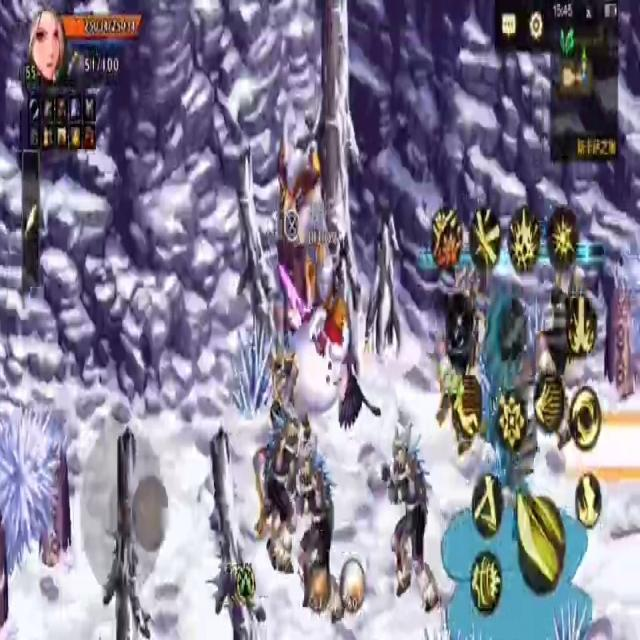player: (283, 269, 351, 434)
